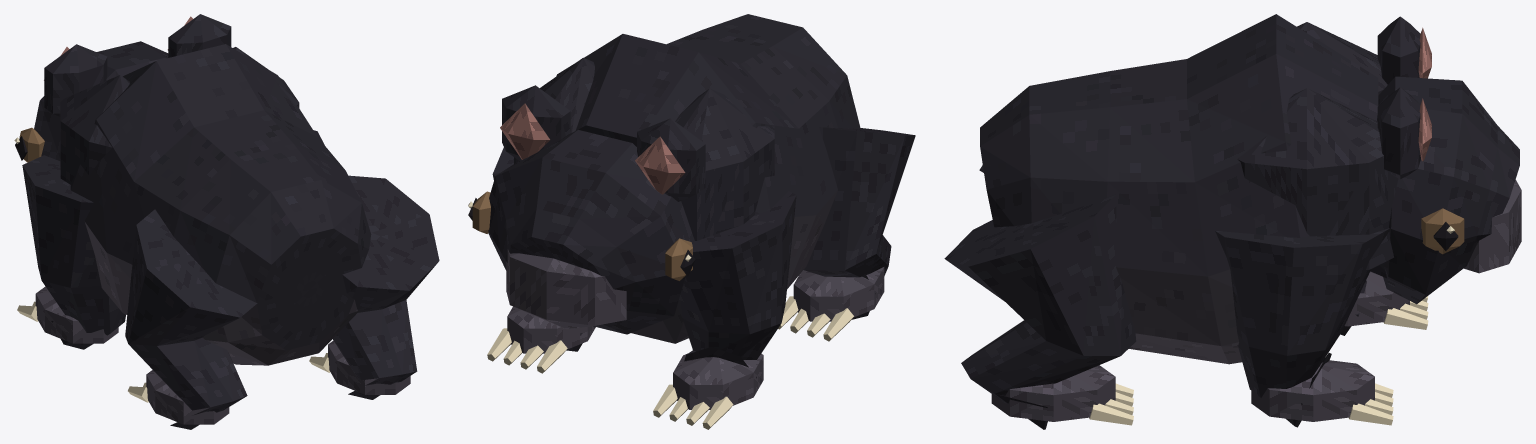
File: mon_bear_cub.glb
The picture shows the model from 3 angles, left to right: view 1: azimuth 30°, elevation 25°; view 2: azimuth 150°, elevation 25°; view 3: azimuth 270°, elevation 25°; orthographic projection. The views are drawn at different scales.
Visible parts, largest first — view 1: closed_body; view 2: closed_body; view 3: closed_body.
Part boxes in pixels (x1=…): closed_body: x1=14, y1=14, x2=439, y2=429; closed_body: x1=468, y1=14, x2=915, y2=429; closed_body: x1=944, y1=14, x2=1521, y2=429.
Bounding box in the file's own units: 0.4919 × 0.52 × 0.7819.
1 material, 1 textured.
